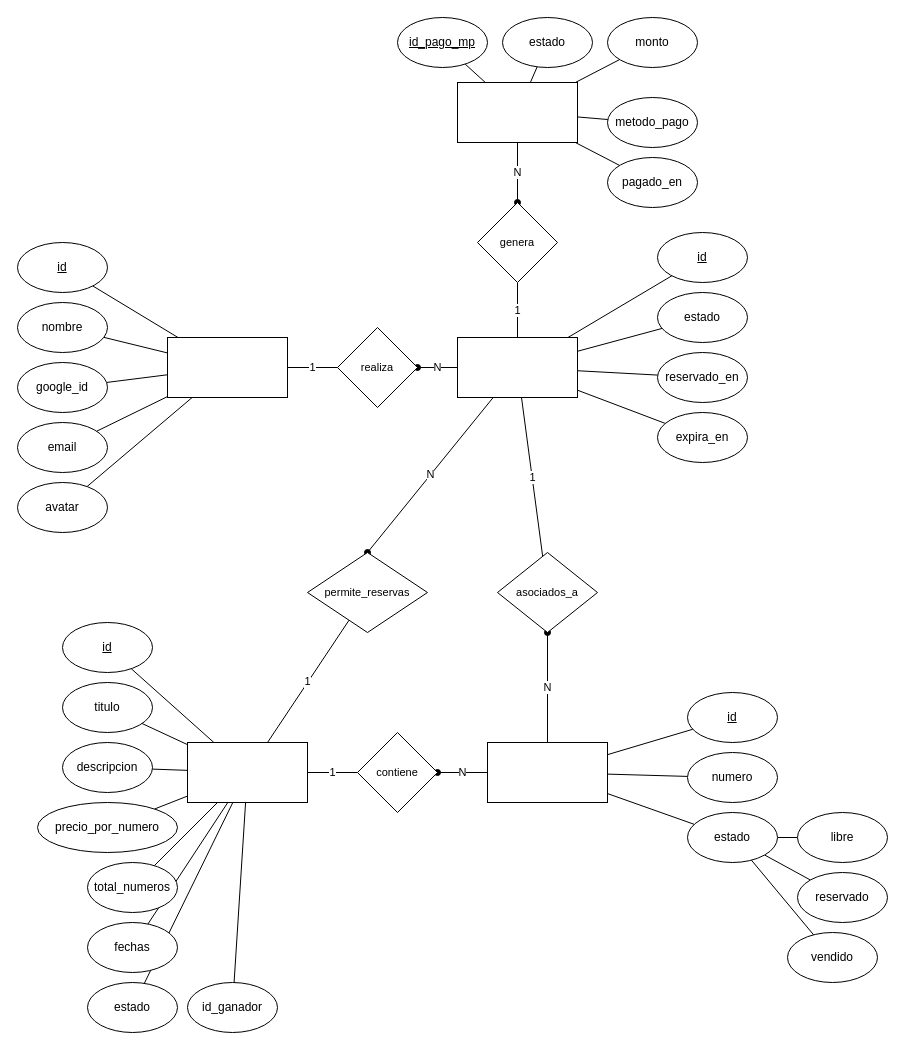
Image size: 905x1050. Some labels were removed from this diagram. Each missing label, with the centre of its shape:
"numeros_rifa" belongs at point 547,772.
"pagos" belongs at point 517,112.
"r eservas" belongs at point 517,367.
"rifas" belongs at point 247,772.
"usuarios" belongs at point 227,367.
